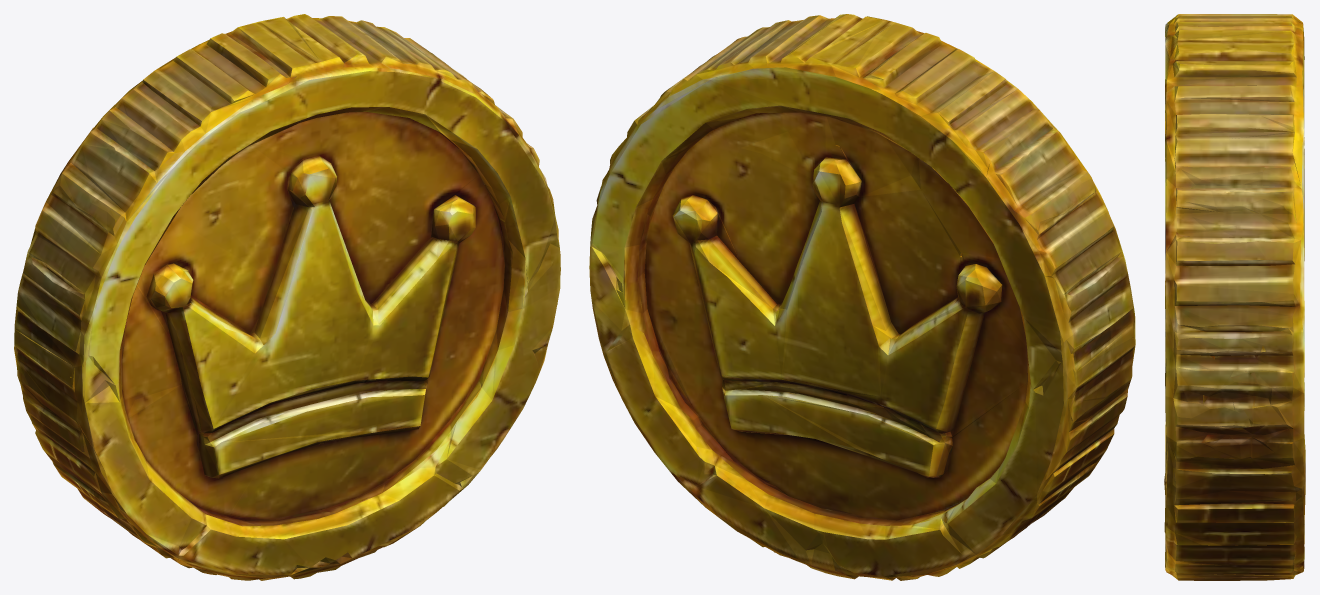
Rendered from coinWithMesh_00001_.glb.
3 views of the same model, side by side, from view 1: azimuth 30°, elevation 25°; view 2: azimuth 150°, elevation 25°; view 3: azimuth 270°, elevation 25° (orthographic).
Visible parts, largest first — view 1: geometry_0; view 2: geometry_0; view 3: geometry_0.
Part boxes in pixels (x1,y1,x2,y2): geometry_0: (14,14,560,580); geometry_0: (589,14,1135,580); geometry_0: (1164,14,1305,580).
Bounding box in the file's own units: 0.9965 × 0.9993 × 0.2498.
1 material, 1 textured.
